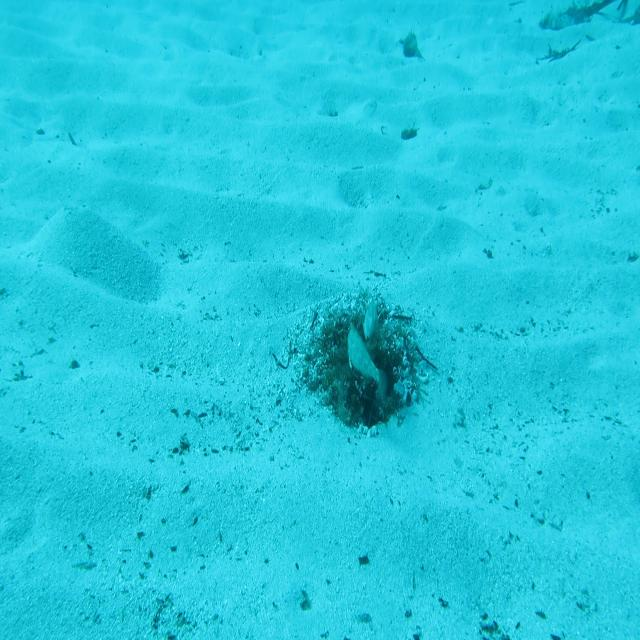GB: (340, 317, 392, 417)
female: (360, 290, 385, 346)
nest: (298, 292, 420, 435)
